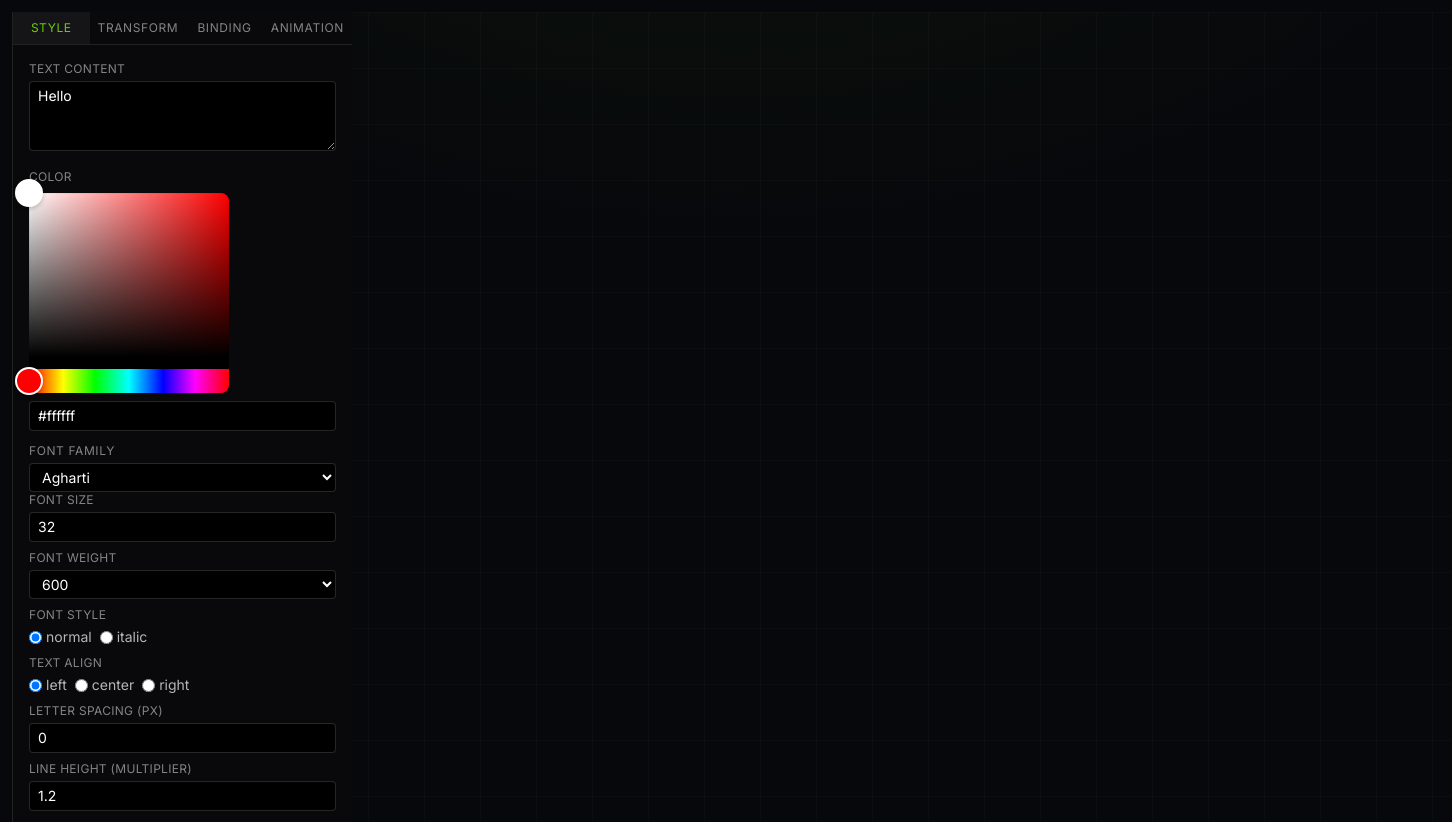
Test: PropertiesPanel › BindingTab for text element renders ManualBindEditor with feed dropdown
Click the tab "binding".
click(225, 28)  # box [186,12,263,44]
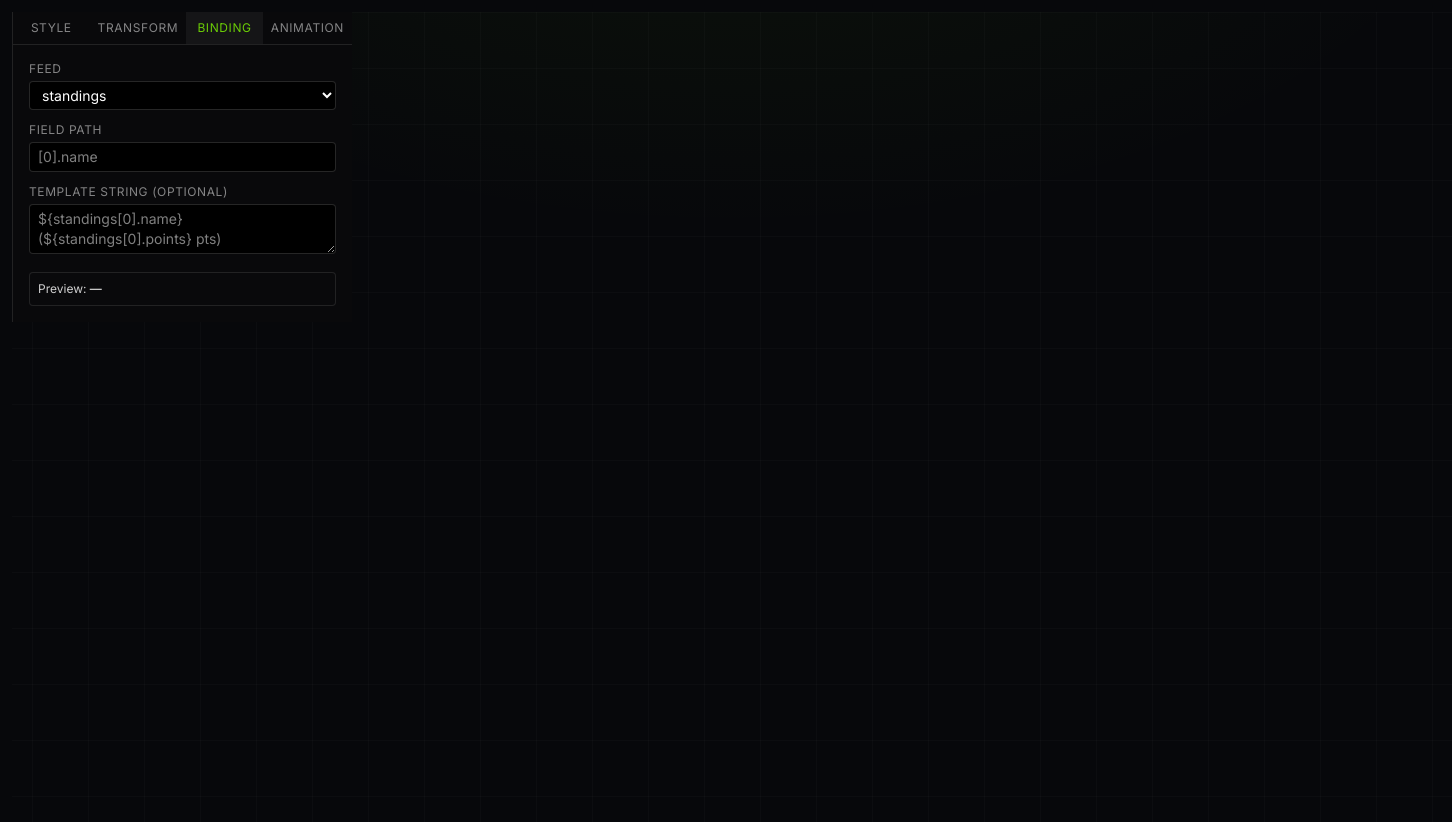
Now the dropdown labelled "Feed" is shown, box [29,81,336,110]
